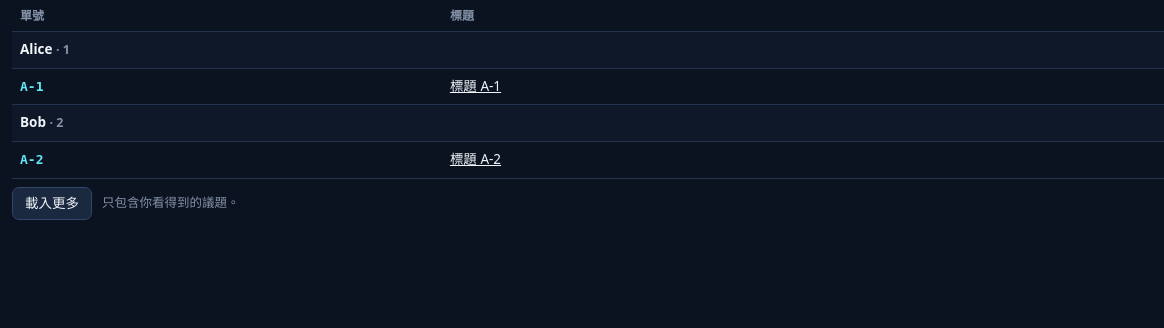
Test: ViewTable › keeps group heads of earlier pages and shows a returning item once
Click the button with test id "view-more" at (52, 203), box left=12, top=187, right=92, bottom=220
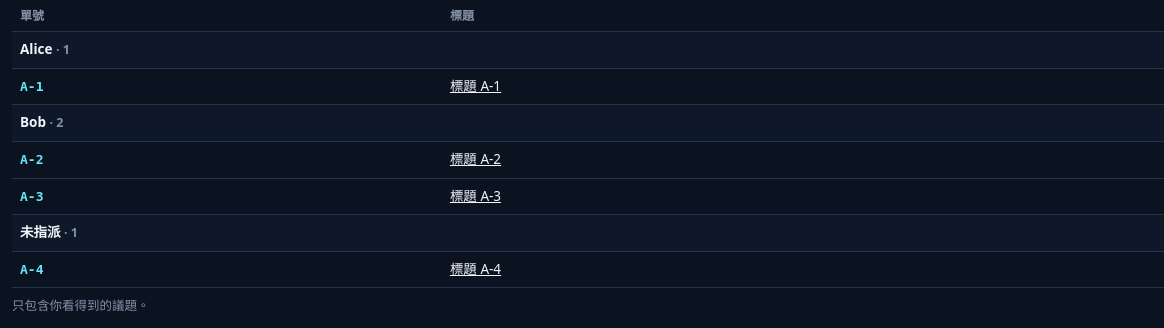
Check: the number of rows with test id "view-row" is 4, box left=12, top=68, right=1163, bottom=105; left=12, top=142, right=1163, bottom=178; left=12, top=178, right=1163, bottom=215; left=12, top=251, right=1163, bottom=288
